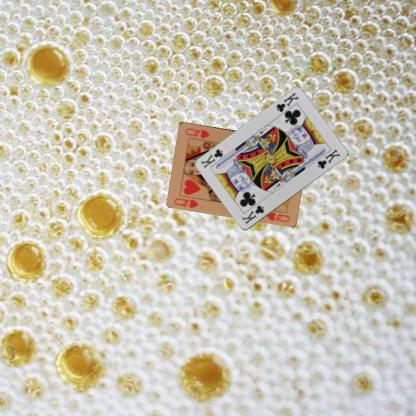Kc: (273, 90, 300, 114), (239, 203, 265, 225)
Qh: (172, 195, 200, 209)
